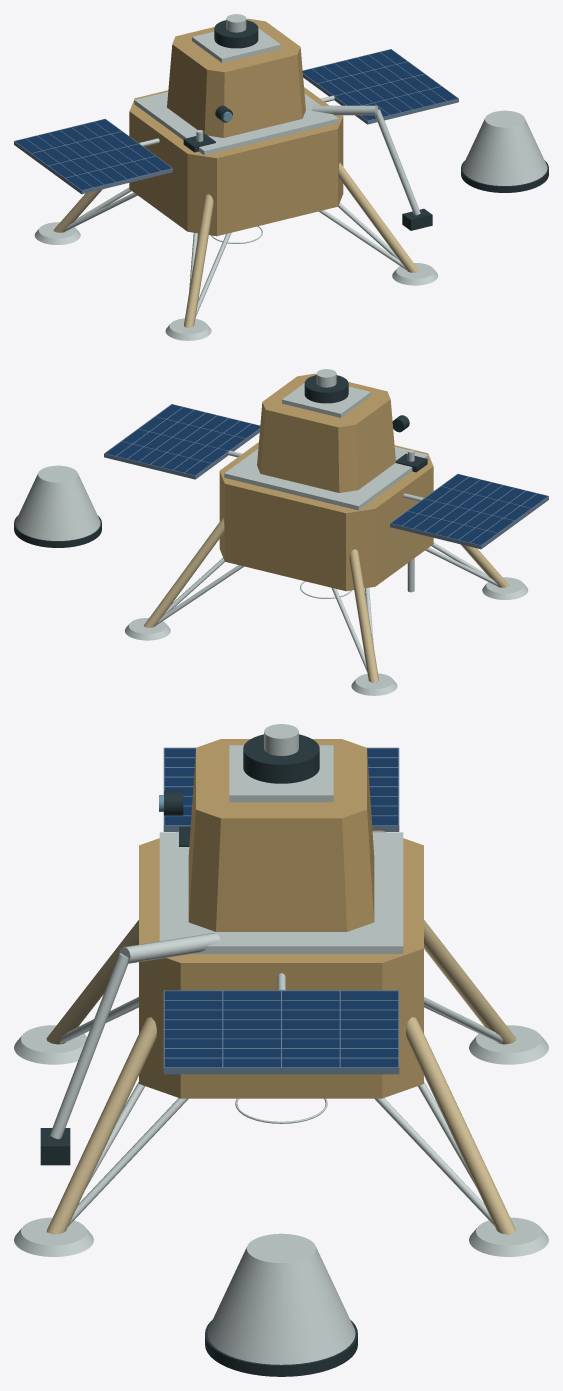
The model's file is change-5.glb.
The picture shows the model from 3 angles, top to bottom: view 1: azimuth 30°, elevation 25°; view 2: azimuth 150°, elevation 25°; view 3: azimuth 270°, elevation 25°; orthographic projection. The views are drawn at different scales.
Visible parts, largest first — view 1: Change-lander-octagonal-deck, deployed-lander-solar-wing (×2), sample-return-ascent-stage, separate-return-capsule-reference, solar, upper-deck, legs, landing-leg-2, landing-leg-1, stage-2, instruments, ascent-docking-interface (+7 smaller); view 2: Change-lander-octagonal-deck, deployed-lander-solar-wing (×2), sample-return-ascent-stage, separate-return-capsule-reference, solar, upper-deck, legs, landing-leg-3, landing-leg-4, stage-2, ascent-docking-interface, landing-footpad-3 (+4 smaller); view 3: sample-return-ascent-stage, Change-lander-octagonal-deck, deployed-lander-solar-wing (×2), separate-return-capsule-reference, upper-deck, solar, legs, landing-leg-1, landing-leg-4, stage-2, instruments, ascent-docking-interface (+10 smaller).
Part boxes in pixels (x1,y1,x2,y2): Change-lander-octagonal-deck: (129, 87, 343, 236); deployed-lander-solar-wing (×2): (15, 49, 457, 190); sample-return-ascent-stage: (167, 18, 305, 137); separate-return-capsule-reference: (462, 110, 547, 185); solar: (14, 49, 458, 194); upper-deck: (134, 92, 338, 155); legs: (64, 187, 406, 316); landing-leg-2: (184, 194, 213, 327); landing-leg-1: (338, 162, 419, 272); stage-2: (192, 28, 280, 62); instruments: (215, 105, 420, 215); ascent-docking-interface: (214, 20, 258, 48); Change-lander-octagonal-deck: (219, 442, 433, 591); deployed-lander-solar-wing (×2): (105, 404, 547, 545); sample-return-ascent-stage: (257, 373, 395, 492); separate-return-capsule-reference: (15, 465, 100, 540); solar: (104, 404, 548, 549); upper-deck: (224, 447, 428, 510); legs: (156, 542, 498, 671); landing-leg-3: (349, 549, 378, 682); landing-leg-4: (143, 517, 224, 627); stage-2: (282, 383, 370, 417); ascent-docking-interface: (304, 375, 348, 403); landing-footpad-3: (351, 673, 397, 695); sample-return-ascent-stage: (188, 739, 374, 931); Change-lander-octagonal-deck: (139, 830, 423, 1098); deployed-lander-solar-wing (×2): (164, 748, 398, 1067); separate-return-capsule-reference: (207, 1233, 355, 1364); upper-deck: (159, 832, 403, 953); solar: (163, 747, 399, 1074); legs: (60, 997, 502, 1226); landing-leg-1: (46, 1017, 156, 1234); landing-leg-4: (406, 1017, 516, 1234); stage-2: (229, 745, 333, 802); instruments: (50, 791, 183, 1139); ascent-docking-interface: (243, 734, 319, 783).
Size of the model in its own units: 5.72 by 2.62 by 3.08.
